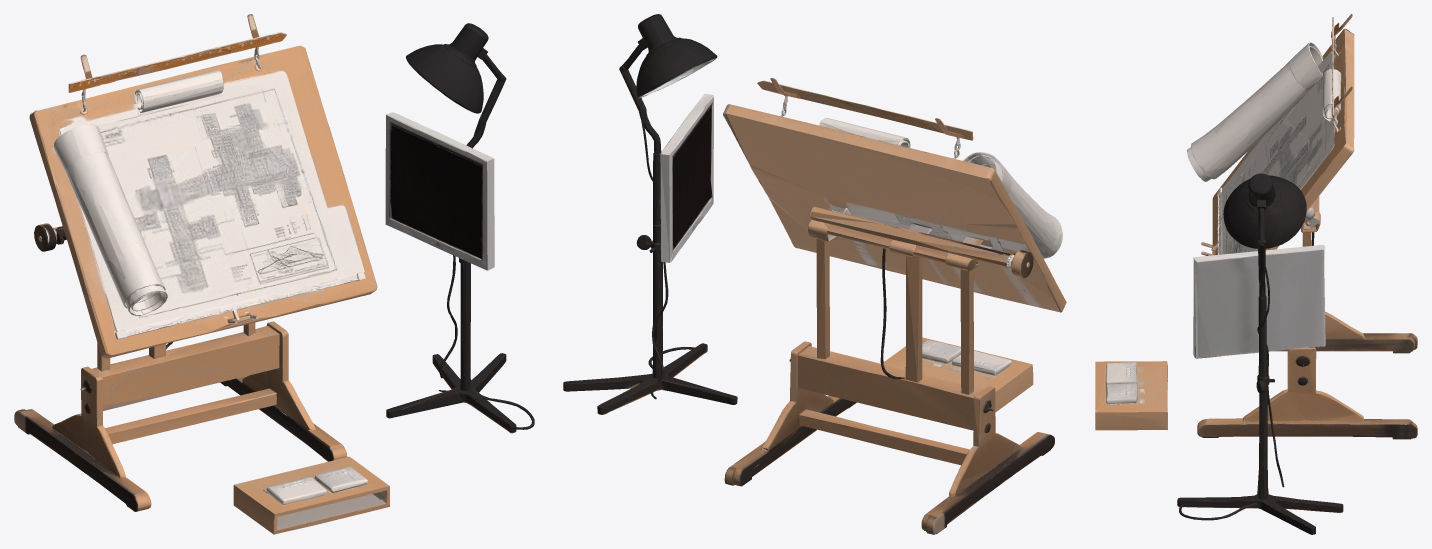
Rendered from ws_architect.glb.
3 views of the same model, side by side, from view 1: azimuth 30°, elevation 25°; view 2: azimuth 150°, elevation 25°; view 3: azimuth 270°, elevation 25° (orthographic). The views are drawn at different scales.
Bounding box in the file's own units: 1.9 × 1.51 × 1.27.
Materials: 1 (1 with a texture image).
